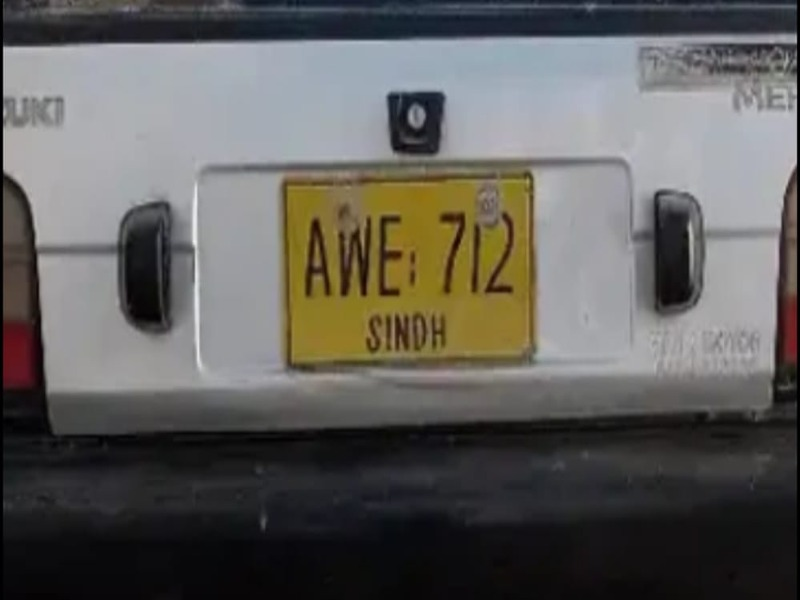License Plate: (277, 174, 535, 358)
